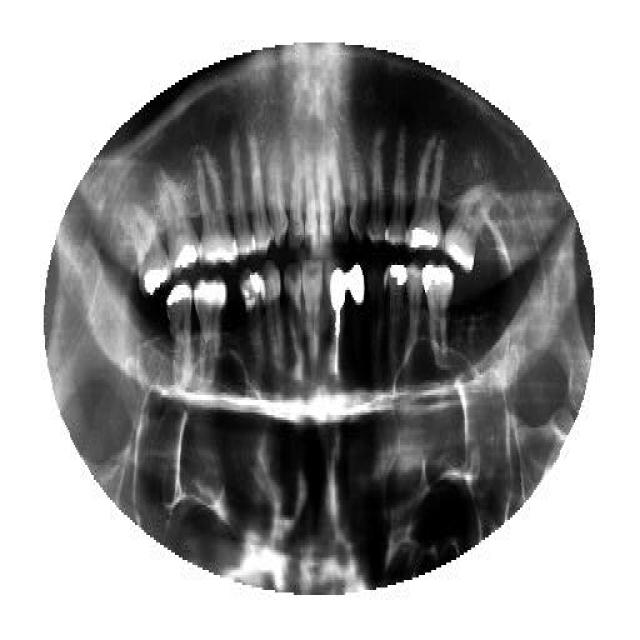Fillings: (408, 135, 447, 253), (156, 178, 202, 272), (126, 205, 172, 295), (422, 262, 453, 362), (166, 283, 194, 385), (240, 268, 264, 372), (385, 265, 407, 373), (346, 262, 365, 312)
Implant: (330, 265, 346, 380)
